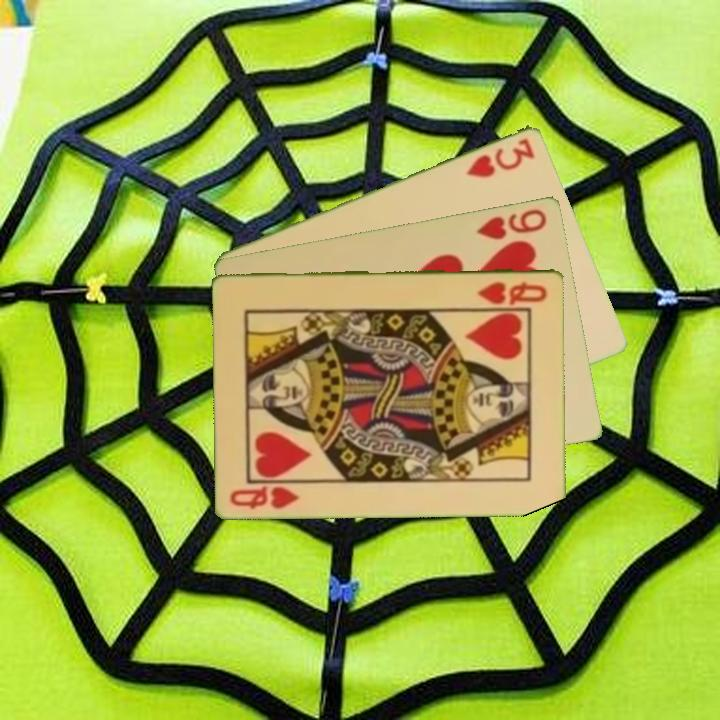3h: (462, 134, 538, 180)
9h: (473, 205, 550, 242)
Qh: (227, 482, 303, 512), (475, 277, 551, 306)
